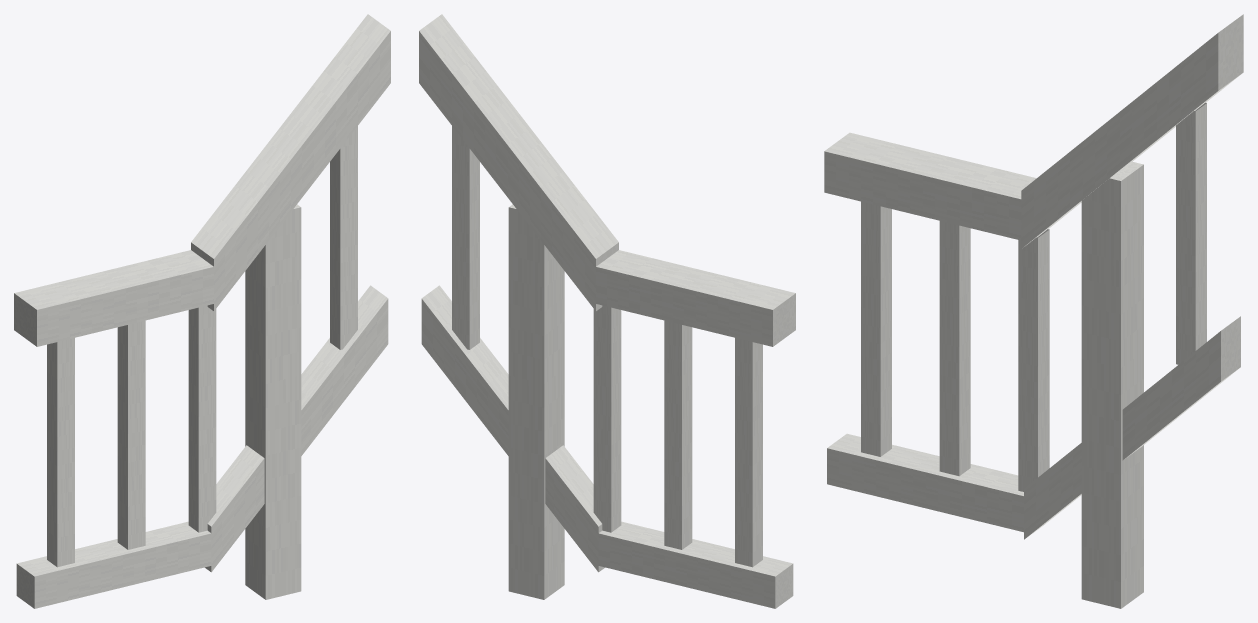
The model's file is foot_pos.obj.
3 views of the same model, side by side, from view 1: azimuth 30°, elevation 25°; view 2: azimuth 150°, elevation 25°; view 3: azimuth 330°, elevation 25° (orthographic). The views are drawn at different scales.
Visible parts, largest first — view 1: railing_picket_white_foot_pos; view 2: railing_picket_white_foot_pos; view 3: railing_picket_white_foot_pos.
Boxes of the visible parts, x1,y1,x2,y2 form: railing_picket_white_foot_pos: [14, 14, 390, 608]; railing_picket_white_foot_pos: [419, 14, 795, 608]; railing_picket_white_foot_pos: [824, 14, 1243, 608].
Size of the model in its own units: 1 by 1.46 by 0.1125.
